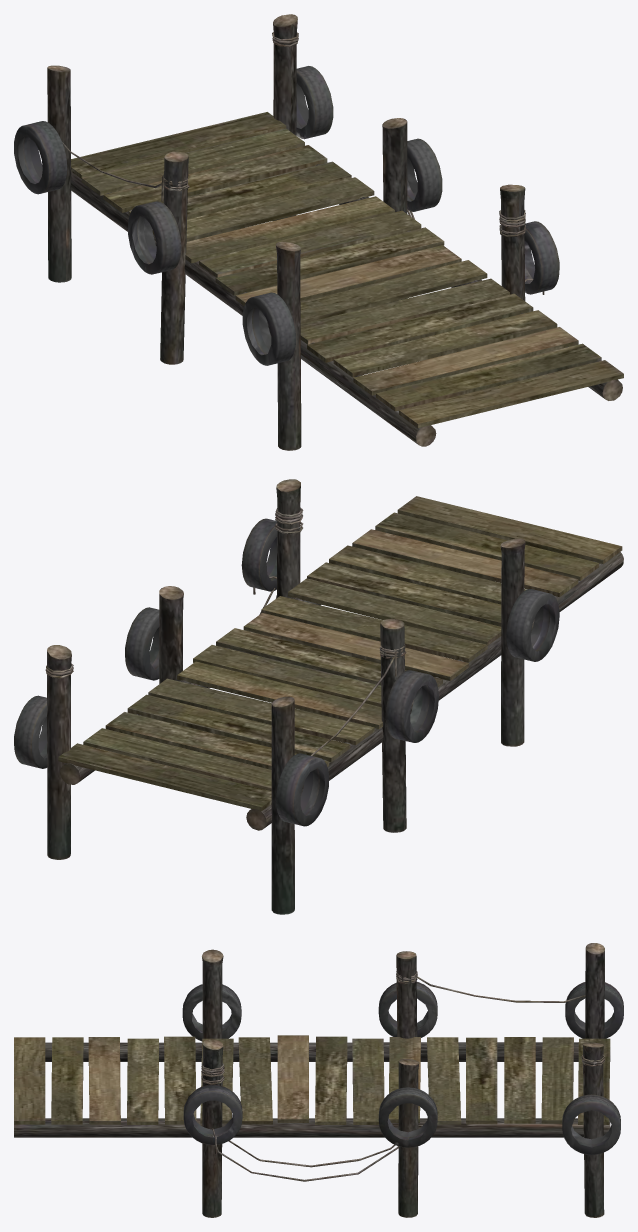
Rendered from old-pier.lod0.glb.
The picture shows the model from 3 angles, top to bottom: view 1: azimuth 30°, elevation 25°; view 2: azimuth 150°, elevation 25°; view 3: azimuth 270°, elevation 25°; orthographic projection. The views are drawn at different scales.
Visible parts, largest first — view 1: defaultMaterial; view 2: defaultMaterial; view 3: defaultMaterial.
Boxes of the visible parts, bbox=[...] form: defaultMaterial: bbox=[14, 14, 623, 450]; defaultMaterial: bbox=[14, 479, 623, 914]; defaultMaterial: bbox=[14, 943, 623, 1217].
Size of the model in its own units: 18.14 by 12.72 by 40.
1 material, 1 textured.
